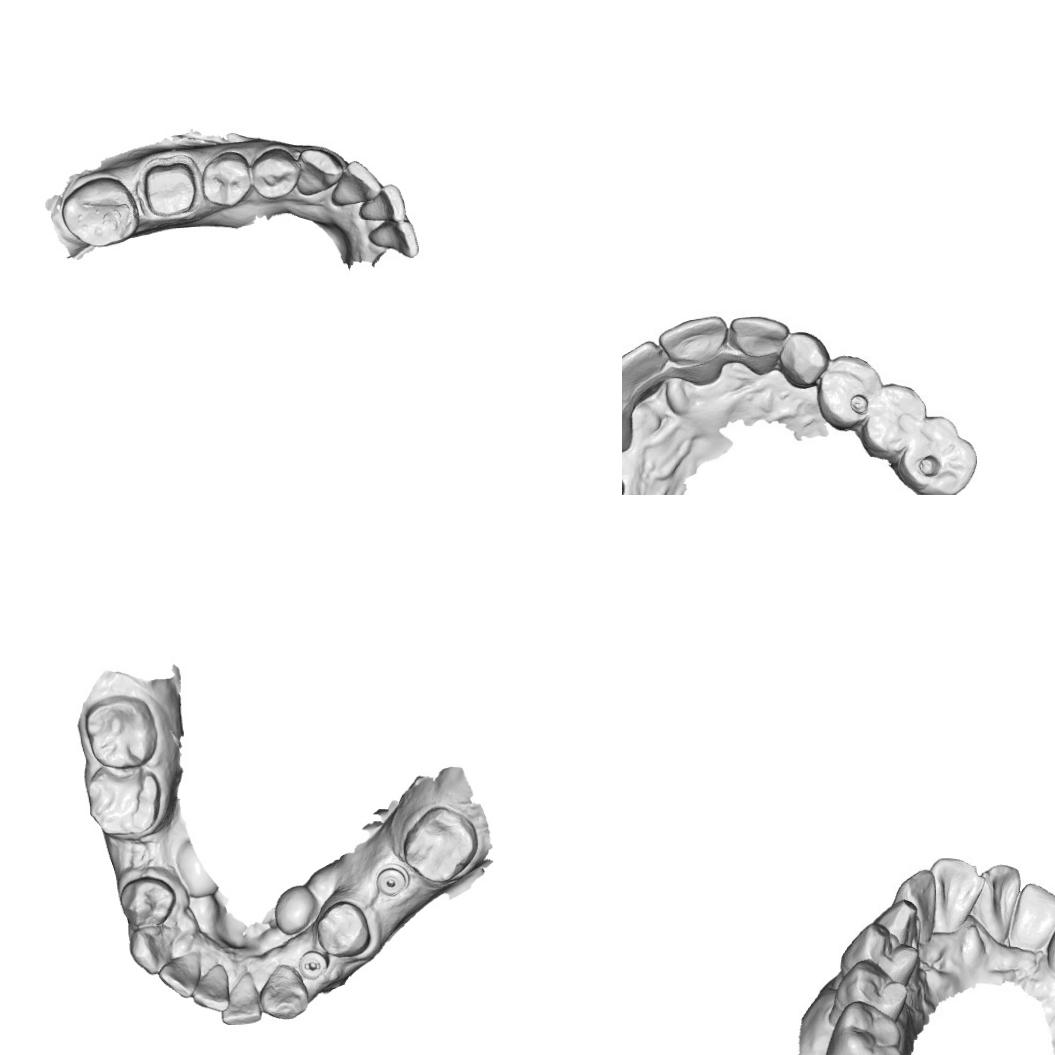canine: (779, 327, 831, 389), (258, 963, 310, 1021), (294, 146, 344, 198), (127, 924, 176, 976), (873, 900, 919, 947)
crown: (137, 153, 202, 220)
implant: (374, 861, 412, 898)
implant_minus: (297, 948, 330, 982)
incisor: (656, 312, 727, 388), (725, 312, 790, 382), (929, 855, 983, 932), (1004, 882, 1055, 954), (975, 866, 1022, 940), (894, 870, 940, 942), (622, 338, 665, 402), (330, 159, 381, 207), (367, 216, 420, 260), (156, 949, 202, 999), (220, 972, 262, 1026), (358, 182, 408, 222), (190, 964, 230, 1012)
molar: (890, 411, 975, 495), (401, 805, 481, 885), (60, 175, 140, 248), (84, 693, 158, 770), (86, 763, 163, 837), (820, 999, 903, 1055)
premolar: (861, 383, 932, 460), (841, 922, 921, 984), (836, 958, 910, 1024), (816, 354, 876, 432), (118, 873, 178, 930), (314, 899, 370, 958), (199, 150, 252, 208), (250, 147, 299, 202)
